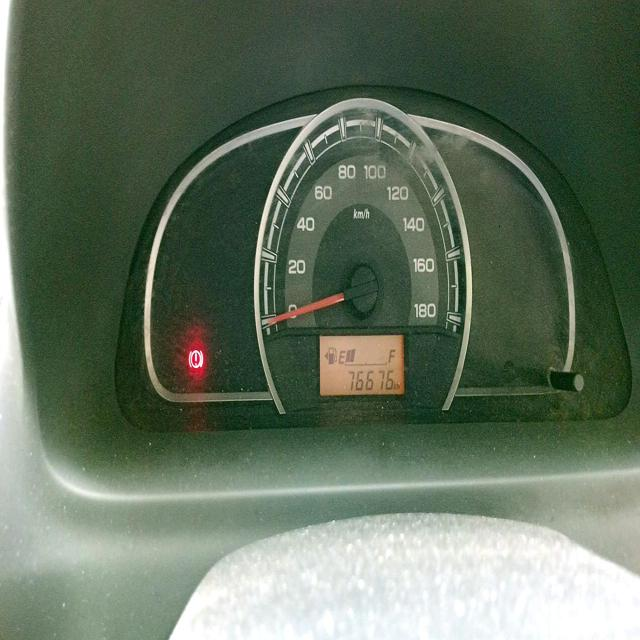odometer: (346, 367, 394, 393)
